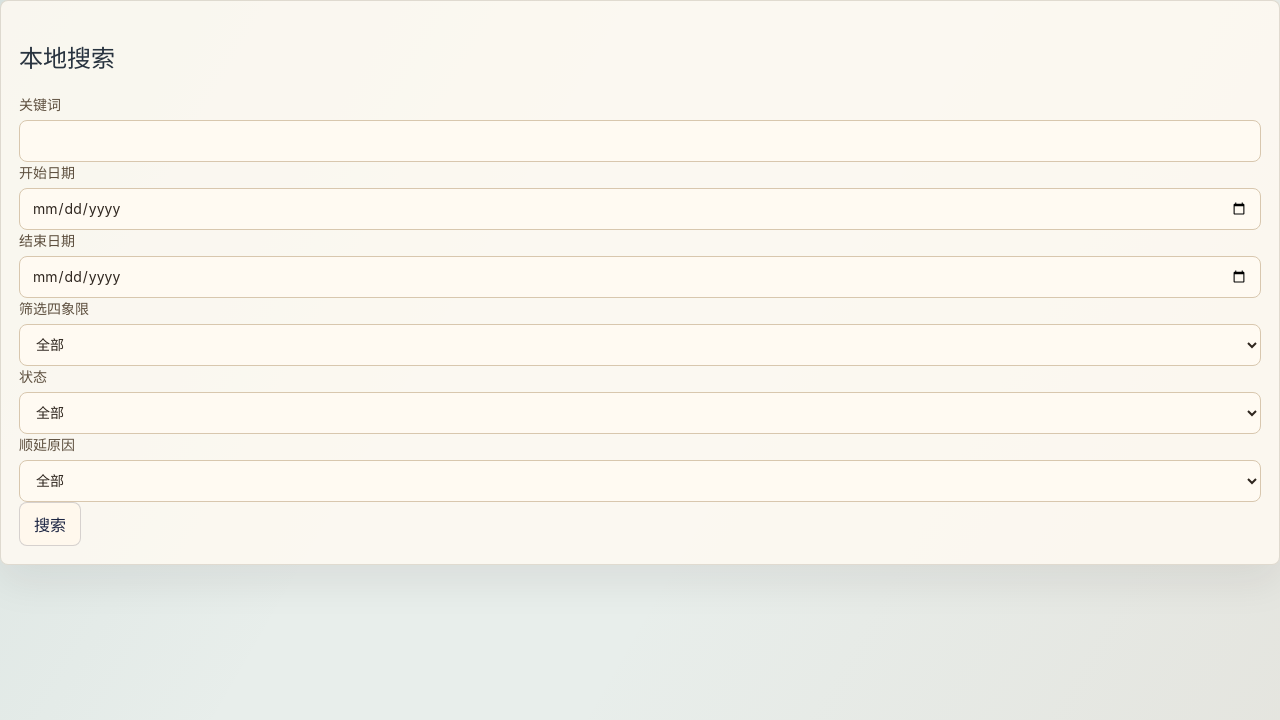
Test case: SearchPanel › shows a neutral empty state after an empty search
This screenshot has width=1280, height=720.
Click the button "搜索" at (50, 524), box [19,502,81,546]
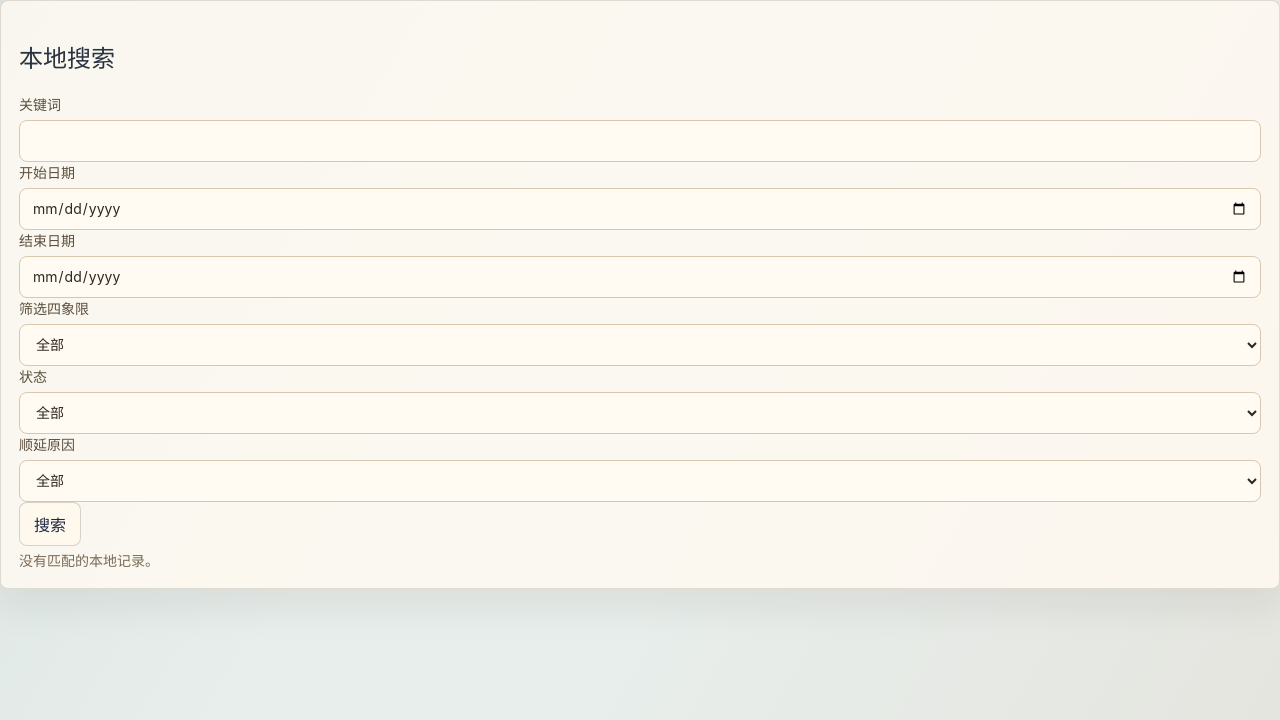
Expected: the text "没有匹配的本地记录。" is shown, [19,552,159,569]
